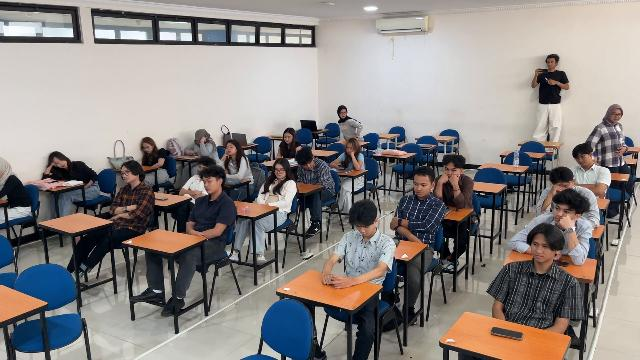bosan: (531, 237, 552, 261), (554, 202, 574, 227), (413, 179, 428, 197), (356, 222, 372, 237), (444, 166, 460, 181), (202, 177, 216, 193), (555, 181, 573, 192), (576, 152, 589, 165), (122, 166, 132, 182), (53, 157, 67, 168), (275, 164, 285, 178), (143, 142, 153, 153), (226, 143, 236, 154), (303, 160, 314, 170), (284, 133, 293, 144), (346, 144, 355, 155)
